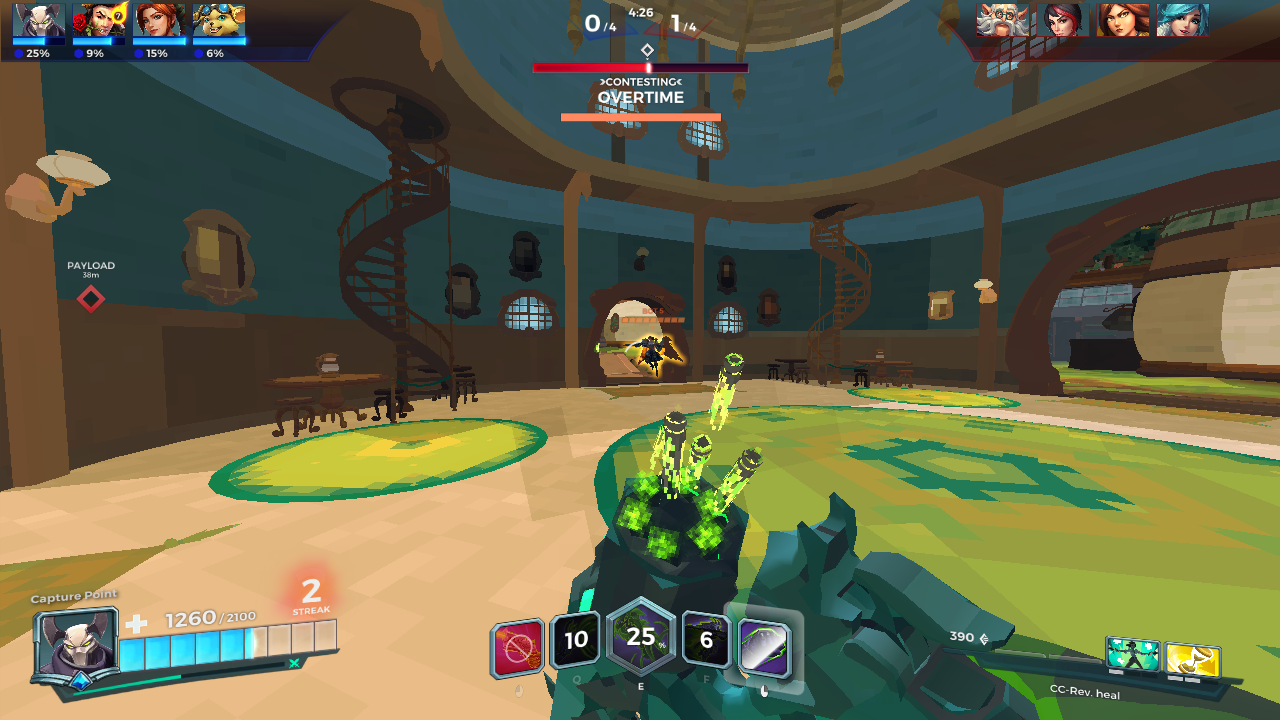model: (628, 329, 687, 379)
